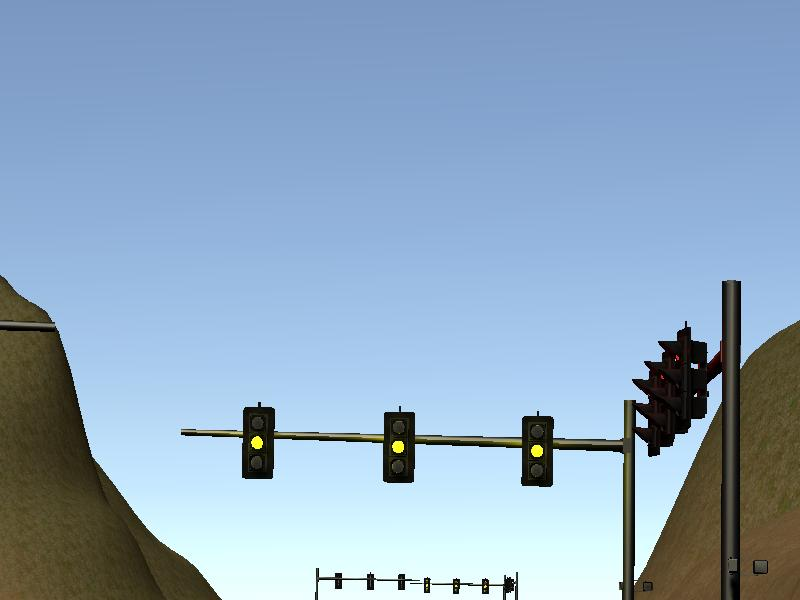Yellow: (243, 406, 275, 478), (523, 413, 552, 488), (383, 411, 414, 481)
